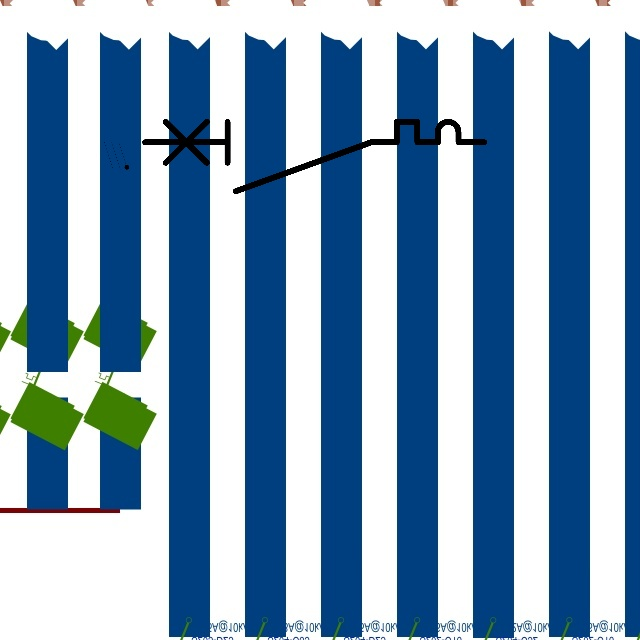interruptor_termomagnetico: (136, 113, 492, 200)
